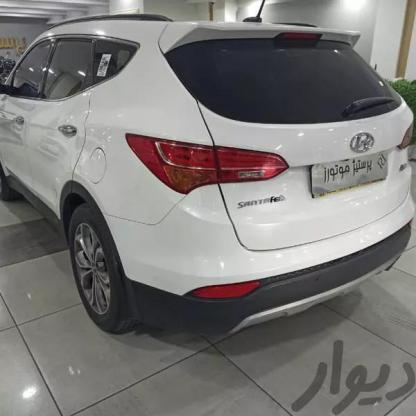Car: (0, 18, 416, 357)
